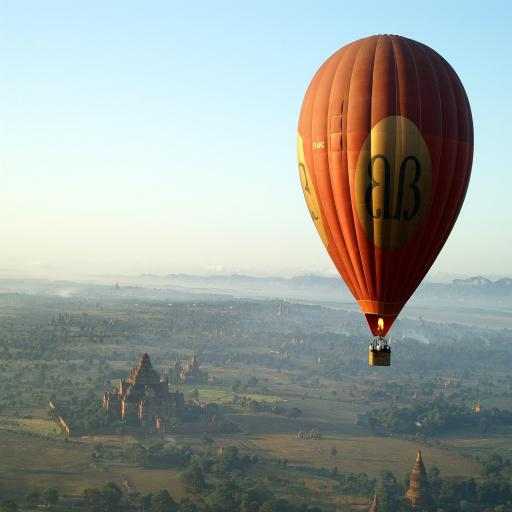hot air ballon: (297, 34, 474, 366)
